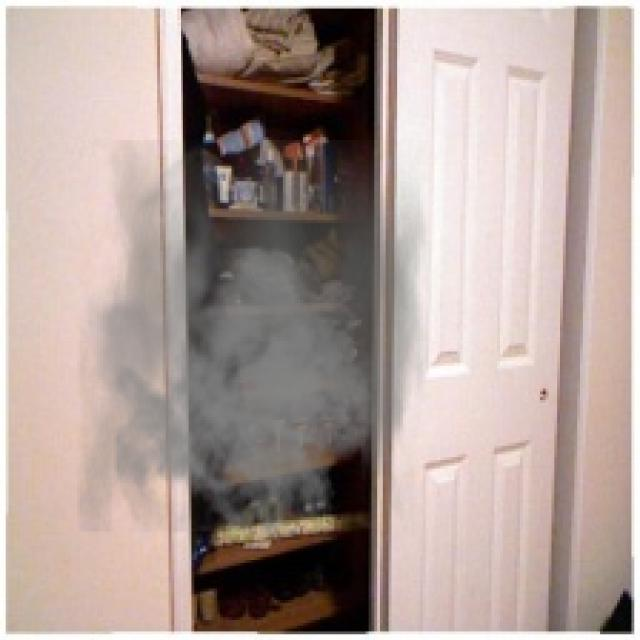Smoke: (77, 140, 429, 546)
